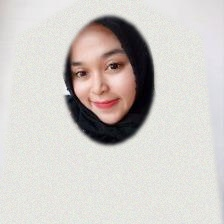Mukena: (0, 0, 221, 224)
